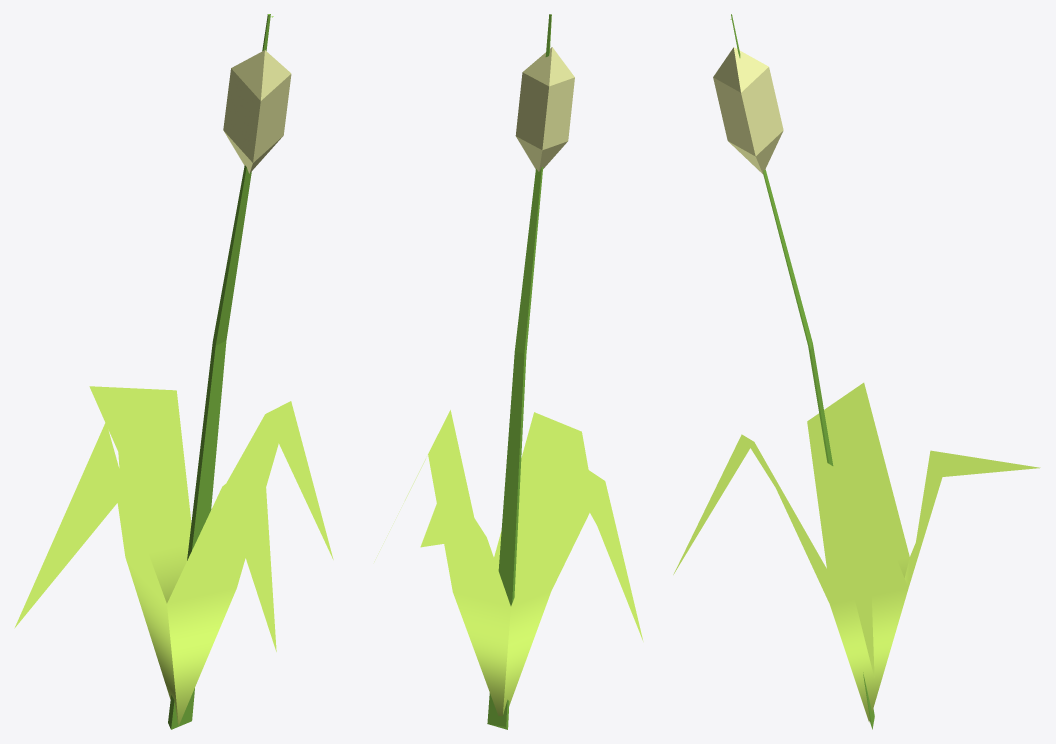
The model's file is BullRush2.fbx.
The picture shows the model from 3 angles, left to right: view 1: azimuth 30°, elevation 25°; view 2: azimuth 150°, elevation 25°; view 3: azimuth 270°, elevation 25°; orthographic projection. The views are drawn at different scales.
Visible parts, largest first — view 1: Bullrush2; view 2: Bullrush2; view 3: Bullrush2.
Part boxes in pixels (x1,y1,x2,y2): Bullrush2: (14,14,333,729); Bullrush2: (374,14,643,729); Bullrush2: (673,14,1040,729).
Size of the model in its own units: 20.15 by 45.71 by 21.31.
